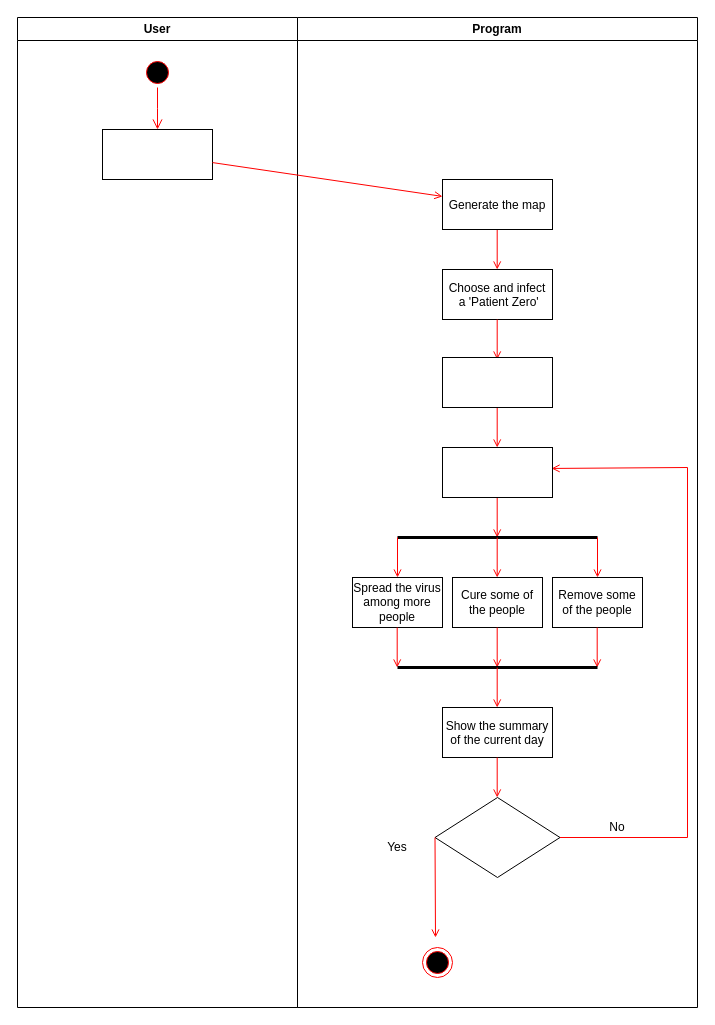
The diagram is 715 pixels wide and 1025 high, and some of its shapes have lost their labels. Here are the shapes that lost their labels. From the top down, the centre of each, then its label:
the point at 157,154: Type in a map's size
the point at 497,382: Generate and show a summary for 'Day 0'
the point at 497,472: Start of the following day's simulation
the point at 497,837: Are all of the remaining people cured?
